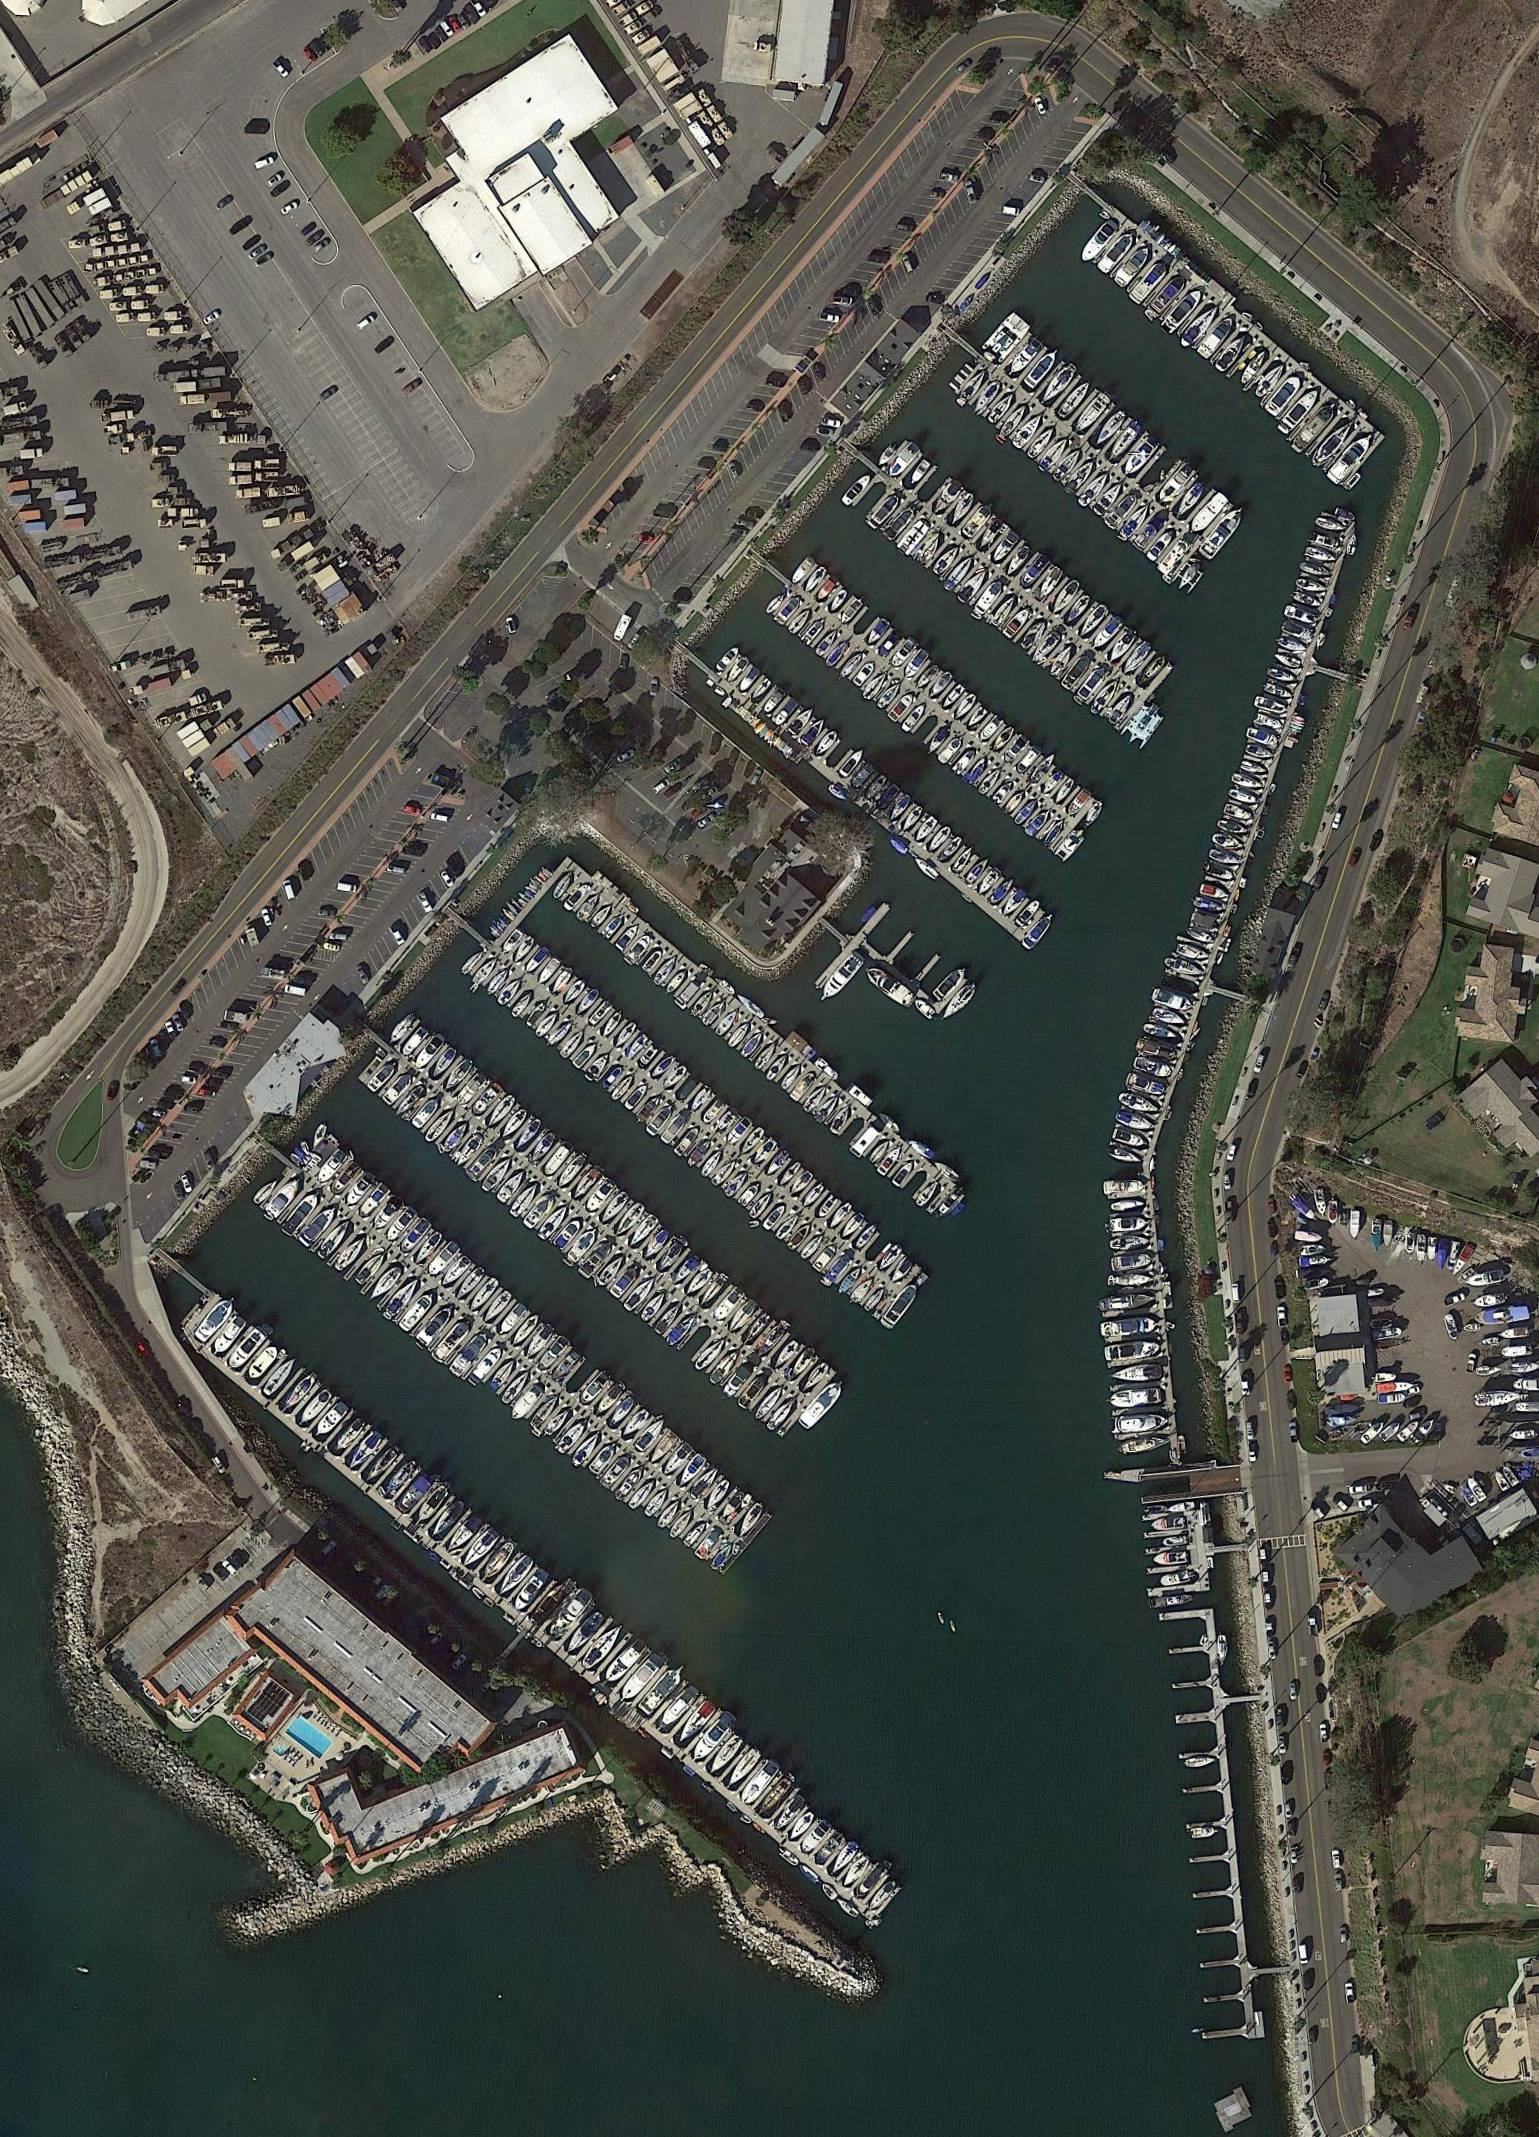harbor: (173, 1285, 914, 1923), (250, 1122, 775, 1579), (359, 1014, 839, 1439), (471, 929, 925, 1324), (1104, 506, 1359, 1166), (547, 858, 964, 1216), (694, 633, 1049, 944), (755, 544, 1100, 854), (839, 428, 1175, 732), (1081, 207, 1388, 486), (935, 305, 1239, 586), (1166, 1607, 1304, 2043), (801, 882, 972, 1061), (1088, 1175, 1183, 1470), (1141, 1503, 1255, 1601)
ship: (637, 1660, 690, 1717), (816, 950, 868, 1006), (1325, 430, 1376, 487), (1199, 504, 1249, 562), (1290, 400, 1340, 456), (547, 1585, 596, 1641), (863, 963, 919, 1011), (1309, 417, 1357, 471), (690, 1711, 738, 1765), (579, 1621, 626, 1673), (619, 1653, 666, 1705), (655, 1683, 702, 1733), (1277, 386, 1322, 437), (879, 1281, 923, 1332), (738, 1758, 782, 1809), (1177, 302, 1222, 351), (1160, 287, 1205, 336), (603, 1638, 648, 1686), (1144, 274, 1188, 322), (194, 1296, 238, 1344), (676, 1698, 719, 1747), (1188, 490, 1231, 538), (448, 1331, 491, 1379), (564, 1610, 608, 1656), (431, 1317, 474, 1364), (280, 1190, 323, 1237), (226, 1326, 269, 1372), (1079, 218, 1120, 266), (458, 1527, 501, 1571), (939, 979, 981, 1024), (415, 1303, 457, 1348), (297, 1204, 339, 1249), (1129, 260, 1170, 306), (495, 1553, 536, 1599), (1097, 229, 1137, 276), (1196, 315, 1236, 362), (479, 1537, 518, 1585), (1071, 392, 1112, 437), (365, 1262, 406, 1307), (1113, 244, 1153, 290), (383, 1275, 423, 1321), (511, 1568, 551, 1614), (1104, 419, 1143, 466), (445, 1512, 486, 1556), (1157, 462, 1197, 507), (1265, 373, 1305, 418), (265, 1175, 305, 1220), (531, 1581, 571, 1626), (1038, 363, 1077, 409), (1007, 335, 1047, 379), (398, 1290, 438, 1334), (706, 1732, 745, 1777), (346, 1428, 385, 1472), (725, 1746, 763, 1791), (466, 1345, 505, 1388), (428, 1498, 467, 1541), (261, 1355, 299, 1399), (1121, 437, 1160, 479), (1023, 348, 1062, 390), (280, 1372, 319, 1414), (1021, 910, 1059, 953), (315, 1218, 353, 1261), (754, 1318, 792, 1361), (756, 1776, 794, 1819), (297, 1387, 335, 1430), (1056, 379, 1094, 421), (577, 1239, 615, 1281), (211, 1314, 248, 1357), (312, 1400, 351, 1440), (520, 1191, 558, 1232), (508, 1382, 545, 1424), (363, 1445, 400, 1487), (932, 964, 971, 1003), (334, 1233, 371, 1274), (1214, 332, 1249, 375), (1092, 409, 1129, 449), (866, 492, 903, 532), (396, 1475, 433, 1515), (382, 1458, 419, 1498), (1104, 491, 1140, 532), (963, 499, 999, 540), (566, 1225, 602, 1266), (415, 1483, 451, 1524), (897, 517, 933, 557), (955, 567, 991, 607), (569, 1429, 605, 1469), (536, 1203, 572, 1243), (1132, 511, 1167, 552), (555, 1417, 591, 1456), (527, 1392, 563, 1431), (1076, 470, 1111, 510), (1157, 537, 1192, 577), (623, 1274, 658, 1314), (773, 1793, 808, 1833), (480, 1155, 514, 1196), (1090, 615, 1126, 653), (692, 1336, 728, 1374), (799, 1818, 835, 1856), (569, 1164, 605, 1202), (1011, 411, 1046, 450), (1253, 361, 1288, 400), (887, 442, 922, 481), (612, 1200, 647, 1239), (626, 1212, 661, 1251), (634, 1415, 669, 1454), (453, 1265, 488, 1304), (1050, 577, 1084, 617), (1088, 677, 1122, 717), (656, 1235, 690, 1275), (468, 1275, 502, 1315), (353, 1250, 388, 1288), (708, 1349, 743, 1387), (465, 1145, 500, 1183), (593, 1380, 628, 1418), (427, 1240, 462, 1278), (398, 1218, 433, 1256), (370, 1195, 405, 1233), (246, 1344, 281, 1382), (1173, 482, 1207, 521), (970, 378, 1004, 417), (1037, 436, 1071, 475), (1119, 502, 1153, 541), (1055, 825, 1089, 864), (972, 578, 1006, 617), (613, 1464, 647, 1503), (508, 1181, 542, 1220), (932, 1187, 967, 1224), (882, 506, 917, 543), (357, 1183, 392, 1220), (661, 1442, 696, 1479), (537, 1335, 572, 1372), (1120, 640, 1154, 678), (1106, 628, 1140, 666), (500, 1369, 534, 1407), (712, 1286, 746, 1324), (485, 1092, 519, 1130), (423, 1107, 457, 1145), (452, 1132, 486, 1170), (385, 1206, 419, 1244), (333, 1416, 367, 1454), (1474, 1304, 1530, 1327), (1060, 653, 1093, 692), (726, 1297, 759, 1336), (1105, 1340, 1163, 1362), (1150, 987, 1195, 1015), (1064, 459, 1098, 496), (1092, 480, 1126, 517), (1144, 527, 1178, 564), (1076, 603, 1110, 640), (931, 480, 965, 517), (1029, 629, 1063, 666), (343, 1172, 377, 1209), (413, 1033, 447, 1070), (381, 1071, 415, 1108), (647, 1430, 681, 1467), (577, 1371, 611, 1408), (509, 1312, 543, 1349), (942, 555, 975, 593), (737, 1373, 770, 1411), (556, 1152, 589, 1190), (523, 1324, 556, 1362), (1117, 1089, 1161, 1117), (439, 1254, 474, 1289), (442, 1057, 476, 1093), (455, 1072, 489, 1108), (471, 1081, 505, 1117), (1075, 666, 1108, 703), (329, 1160, 362, 1197), (599, 1454, 632, 1491), (766, 1395, 799, 1432), (411, 1094, 444, 1131), (542, 1141, 575, 1178), (481, 1289, 514, 1326), (1099, 1317, 1157, 1338), (786, 1345, 818, 1383), (753, 1385, 785, 1423), (829, 1839, 861, 1877), (413, 1229, 445, 1267), (1473, 1388, 1530, 1409), (393, 1085, 427, 1120), (853, 1865, 887, 1900), (1025, 425, 1058, 461), (1051, 447, 1084, 483), (1019, 554, 1052, 590), (841, 472, 874, 508), (316, 1150, 349, 1186), (688, 1465, 721, 1501), (1239, 348, 1269, 387), (735, 1501, 765, 1540), (366, 1060, 400, 1094), (1002, 604, 1034, 640), (740, 1310, 772, 1346), (496, 1169, 528, 1205), (585, 1178, 617, 1214), (840, 1854, 872, 1890), (989, 592, 1020, 629), (1135, 1038, 1179, 1064), (682, 1265, 715, 1299), (986, 391, 1018, 426), (1136, 654, 1168, 689), (799, 1360, 831, 1395), (609, 1265, 641, 1300), (512, 1117, 544, 1152), (599, 1190, 631, 1225), (998, 403, 1029, 439), (990, 530, 1021, 566), (677, 1453, 708, 1489), (1098, 1293, 1156, 1312), (1162, 955, 1206, 980), (721, 1365, 752, 1400), (553, 1217, 584, 1252), (641, 1227, 672, 1262), (787, 1809, 818, 1844), (1115, 1414, 1169, 1434), (948, 491, 977, 528), (1110, 1388, 1161, 1409), (620, 1407, 652, 1440), (665, 1315, 697, 1348), (773, 594, 804, 628), (645, 1103, 676, 1137), (931, 544, 962, 578), (1019, 618, 1050, 652), (627, 1478, 658, 1512), (1125, 1073, 1167, 1098), (588, 1442, 618, 1477), (653, 1302, 683, 1337), (596, 1255, 626, 1290), (1036, 566, 1065, 602), (1048, 643, 1077, 679), (698, 1273, 727, 1309), (1119, 1436, 1171, 1456), (1110, 1364, 1162, 1384), (1107, 691, 1135, 728), (889, 637, 920, 670), (670, 1255, 701, 1288), (386, 1014, 417, 1047), (867, 1880, 898, 1913), (551, 1349, 582, 1382), (1063, 593, 1093, 627), (976, 517, 1006, 551), (771, 1339, 801, 1373), (815, 1831, 845, 1865), (639, 1290, 668, 1325), (704, 1477, 733, 1512), (607, 1396, 638, 1428), (789, 1070, 819, 1103), (735, 992, 768, 1022), (583, 1051, 613, 1084), (887, 691, 917, 724), (922, 725, 952, 758), (498, 1303, 528, 1336), (1029, 752, 1058, 786), (500, 1106, 529, 1140), (1115, 1109, 1156, 1133), (1005, 543, 1033, 578), (787, 705, 817, 737), (860, 671, 890, 703), (1002, 733, 1032, 765), (1134, 1056, 1174, 1080), (673, 1125, 702, 1158), (960, 369, 989, 402), (902, 648, 931, 681), (490, 1357, 519, 1390), (431, 1046, 459, 1080), (1111, 1127, 1150, 1151), (1450, 1243, 1476, 1279), (764, 1148, 794, 1179), (876, 1243, 906, 1274), (660, 1113, 689, 1145), (441, 1121, 470, 1153), (876, 1144, 904, 1177), (839, 746, 867, 779), (574, 986, 602, 1019), (901, 701, 929, 734), (530, 1131, 558, 1164), (875, 681, 904, 712), (937, 735, 966, 766), (401, 1026, 430, 1057), (655, 1499, 683, 1531), (643, 1487, 671, 1519), (523, 945, 552, 975), (1024, 808, 1053, 838), (543, 1408, 572, 1438), (1290, 1196, 1320, 1225), (471, 956, 500, 986), (914, 1178, 942, 1209), (1000, 887, 1028, 918), (975, 866, 1003, 897), (800, 616, 828, 647), (848, 1276, 876, 1307), (575, 892, 603, 923), (839, 595, 867, 626), (496, 977, 524, 1008), (814, 1094, 841, 1126), (652, 955, 679, 987), (698, 1148, 725, 1180), (836, 1266, 863, 1298), (1016, 744, 1043, 776), (668, 1509, 695, 1541), (988, 878, 1017, 907), (710, 1158, 739, 1187), (838, 651, 866, 681), (786, 607, 814, 637), (715, 644, 743, 674), (827, 1200, 855, 1230), (635, 1095, 663, 1125), (547, 1020, 577, 1048), (812, 1243, 840, 1273), (613, 1020, 641, 1050), (690, 988, 717, 1019), (801, 717, 828, 748), (926, 824, 953, 855), (559, 1029, 586, 1060), (627, 933, 654, 964), (928, 670, 955, 701), (865, 617, 892, 648), (1080, 800, 1107, 831), (695, 1529, 722, 1560), (720, 1490, 747, 1521), (1106, 1146, 1144, 1168), (919, 531, 942, 567), (533, 1011, 561, 1040), (661, 1063, 690, 1091), (251, 1178, 280, 1206), (1410, 1416, 1438, 1445), (802, 1084, 829, 1114), (764, 1053, 791, 1083), (714, 1009, 741, 1039), (1015, 898, 1042, 928), (824, 639, 851, 669), (814, 628, 841, 658), (913, 815, 940, 845), (840, 1211, 867, 1241), (799, 1232, 826, 1262), (723, 1169, 750, 1199), (563, 883, 590, 913), (888, 1256, 915, 1286), (953, 691, 979, 722), (803, 564, 829, 595), (813, 729, 840, 758), (875, 783, 902, 812), (937, 835, 964, 864), (615, 923, 642, 952), (977, 715, 1004, 744), (1013, 798, 1040, 827), (753, 1042, 779, 1072), (740, 1030, 766, 1060), (775, 1212, 801, 1242), (778, 1159, 804, 1189), (748, 1191, 774, 1221), (686, 1139, 712, 1169), (610, 1073, 636, 1103), (536, 956, 562, 986), (709, 1542, 735, 1572), (1465, 1270, 1506, 1289), (1152, 1006, 1187, 1028), (1211, 832, 1246, 854), (829, 1105, 853, 1137), (1111, 1254, 1151, 1273), (788, 1169, 815, 1197), (572, 1042, 599, 1070), (851, 660, 878, 688), (914, 663, 942, 690), (1283, 605, 1319, 626), (892, 1159, 918, 1188), (912, 856, 941, 882), (762, 1203, 788, 1232), (752, 1137, 778, 1166), (624, 1083, 650, 1112), (790, 557, 816, 586), (1066, 789, 1092, 818), (485, 968, 511, 997), (888, 793, 913, 823), (900, 804, 925, 834), (511, 936, 536, 966), (1042, 819, 1067, 849), (1176, 942, 1211, 963), (702, 1000, 728, 1028), (726, 656, 752, 684), (773, 699, 799, 727), (964, 857, 990, 885), (787, 1223, 813, 1251), (588, 999, 614, 1027), (933, 1159, 962, 1184), (907, 1137, 936, 1162), (779, 1063, 804, 1092), (727, 1021, 752, 1050), (510, 991, 535, 1020), (855, 1222, 880, 1251), (991, 725, 1016, 754), (977, 768, 1002, 797), (601, 1009, 624, 1040), (1150, 1593, 1194, 1609), (1184, 925, 1216, 947), (1360, 1420, 1387, 1446), (737, 666, 762, 694), (864, 774, 889, 802), (549, 968, 574, 996), (561, 978, 586, 1006), (952, 748, 977, 776), (551, 872, 575, 901), (966, 757, 989, 787), (1053, 776, 1076, 806), (1231, 772, 1265, 792), (1255, 696, 1289, 716), (762, 688, 787, 715), (801, 1183, 826, 1210), (601, 913, 626, 940), (460, 950, 485, 977), (500, 929, 525, 956), (625, 1034, 650, 1061), (650, 1054, 677, 1079), (863, 1286, 888, 1313), (1040, 770, 1065, 797), (683, 1521, 708, 1548), (689, 1085, 713, 1113), (1104, 1180, 1146, 1196), (1254, 713, 1286, 734), (952, 846, 975, 875), (1143, 1023, 1178, 1042), (1247, 727, 1280, 747), (877, 1111, 903, 1136), (738, 1182, 763, 1208), (942, 684, 967, 710), (814, 1058, 841, 1082), (590, 903, 614, 930), (702, 1098, 726, 1125), (716, 1106, 741, 1131), (868, 1139, 892, 1165), (665, 969, 689, 995), (763, 591, 787, 617), (1002, 790, 1026, 816), (1465, 1476, 1488, 1503), (1110, 1236, 1151, 1251), (1304, 546, 1338, 564), (1109, 1217, 1147, 1233), (1209, 849, 1241, 868), (1277, 636, 1309, 655), (641, 949, 665, 974), (601, 1066, 625, 1091), (1397, 1419, 1421, 1444), (835, 1896, 860, 1920), (909, 459, 931, 486), (1314, 516, 1347, 534), (1228, 787, 1259, 806), (913, 997, 937, 1021), (749, 677, 773, 701), (1160, 1570, 1192, 1588), (1309, 532, 1341, 550), (817, 1194, 839, 1220), (525, 1002, 547, 1028), (1205, 864, 1235, 883), (1224, 804, 1254, 823), (1293, 591, 1323, 610), (1299, 562, 1332, 579), (1377, 1381, 1417, 1395), (1263, 683, 1294, 701), (1379, 1420, 1403, 1443), (798, 1863, 822, 1886), (993, 780, 1015, 805), (1193, 896, 1223, 914), (310, 1123, 329, 1151), (966, 706, 989, 729), (1473, 1293, 1506, 1309), (1199, 884, 1230, 901), (1218, 819, 1249, 836), (1267, 668, 1298, 685), (1273, 652, 1302, 670), (829, 588, 849, 614), (1296, 578, 1328, 594), (1245, 744, 1275, 761), (876, 445, 897, 469), (1153, 1551, 1189, 1565), (1110, 1199, 1146, 1213), (888, 836, 910, 858), (826, 783, 849, 804), (638, 1044, 659, 1067), (816, 579, 837, 602), (1241, 760, 1269, 777), (1447, 1241, 1462, 1272), (1373, 1327, 1403, 1342), (1184, 1755, 1216, 1769), (1313, 1188, 1329, 1216), (1151, 1518, 1185, 1531), (779, 1848, 801, 1868), (1501, 1465, 1520, 1488), (1492, 1470, 1511, 1492), (1498, 1327, 1530, 1340), (1370, 1219, 1383, 1251), (1113, 1275, 1153, 1285), (1300, 1255, 1333, 1267), (1437, 1238, 1449, 1270), (717, 978, 737, 997), (1344, 472, 1363, 492), (1294, 1231, 1323, 1244), (1216, 1635, 1228, 1666), (1334, 507, 1357, 523), (1168, 1501, 1196, 1514), (859, 906, 878, 925), (821, 1882, 839, 1902), (1502, 1346, 1534, 1357), (1304, 1278, 1331, 1291), (1190, 1827, 1218, 1839), (1404, 1227, 1416, 1254), (1163, 1535, 1189, 1547), (1417, 1234, 1427, 1265), (1379, 1394, 1406, 1405), (1383, 1220, 1394, 1247), (1300, 1245, 1327, 1256), (1347, 534, 1359, 558), (1351, 1211, 1361, 1239), (1427, 1237, 1438, 1262), (1476, 1366, 1502, 1376), (698, 962, 715, 977), (1510, 1430, 1535, 1440), (1328, 1201, 1338, 1226), (1375, 1373, 1397, 1383)
swimming pool: (284, 1714, 334, 1761)
